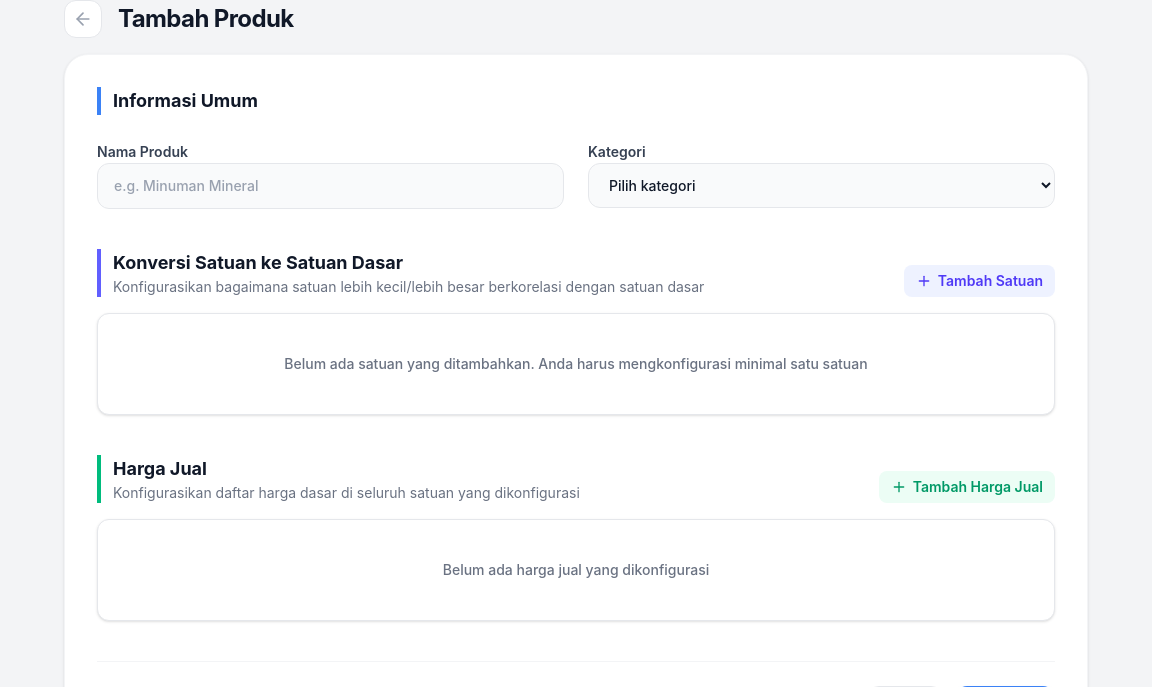
Test: ProductForm Component › Form Validation Constraints › JS validates that at least one unit is added
Check: the heading "Tambah Produk" is shown, box [118,3,294,35]
Type "Test Prod" into the field at (330, 186), box [97,163,564,209]
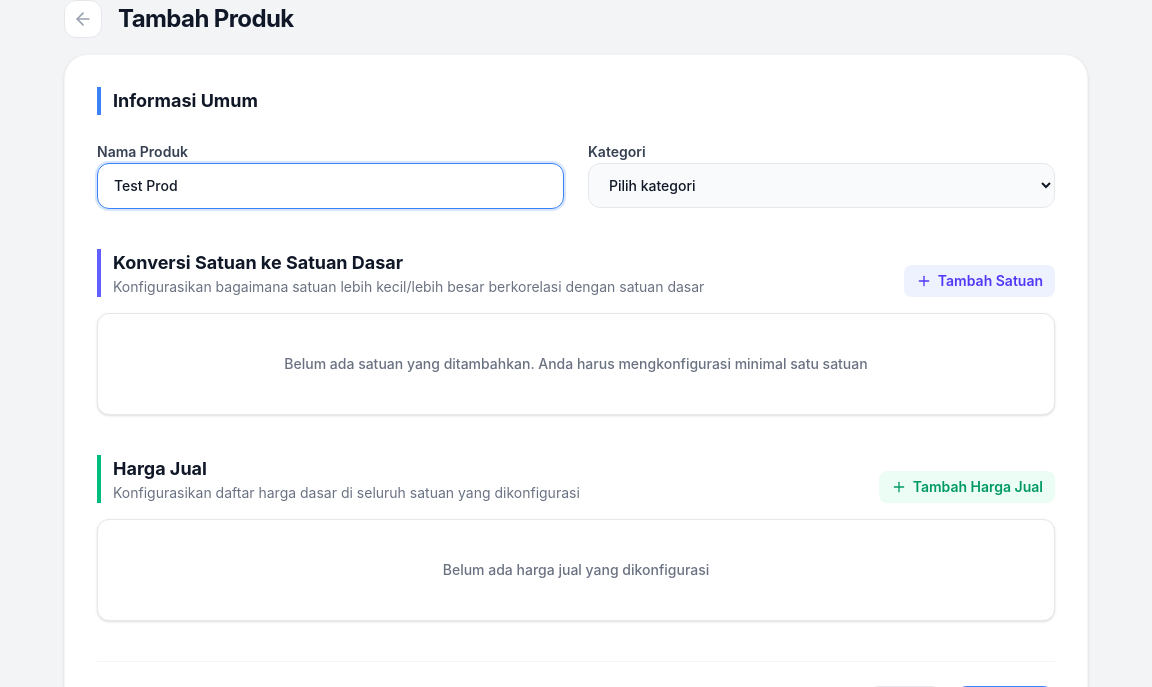
Select "Snack" in the dropdown at (822, 186), box [588,163,1055,208]
(page scrolled)
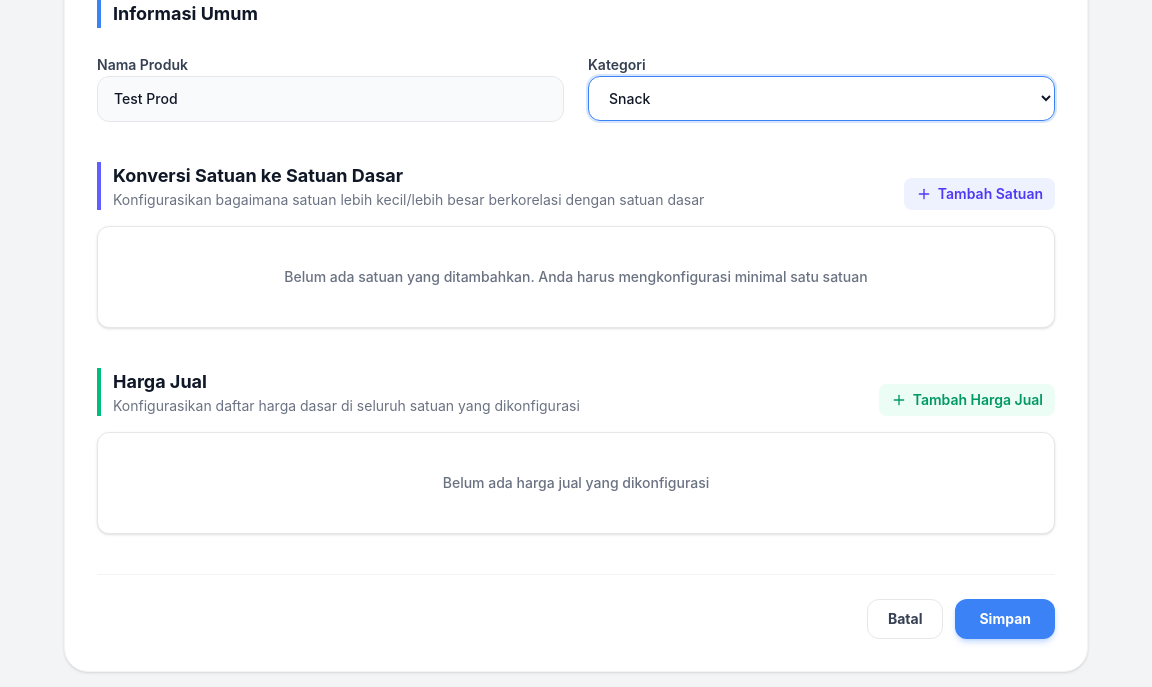
Check: the text "Belum ada satuan yang ditambahkan. Anda harus mengkonfigurasi minimal satu satuan" is shown, box [284,268,868,285]
Click the button "Simpan" at (1005, 619), box [956,599,1055,639]
(page scrolled)
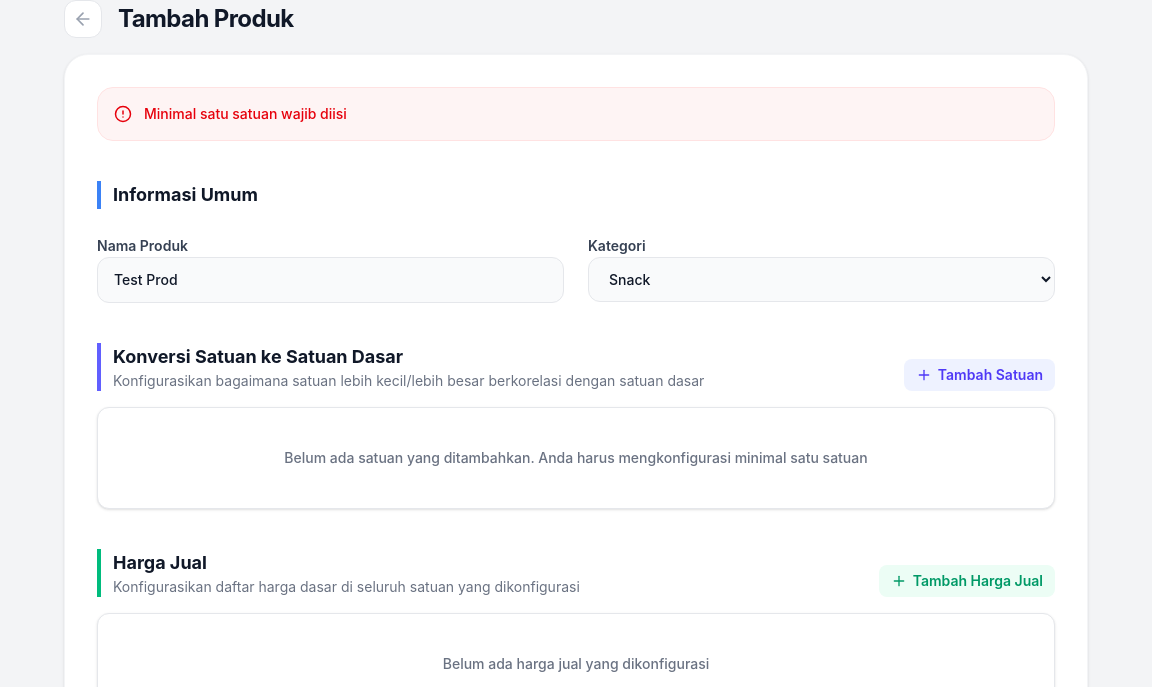
Check: the text "Minimal satu satuan wajib diisi" is shown, box [144,104,347,124]
